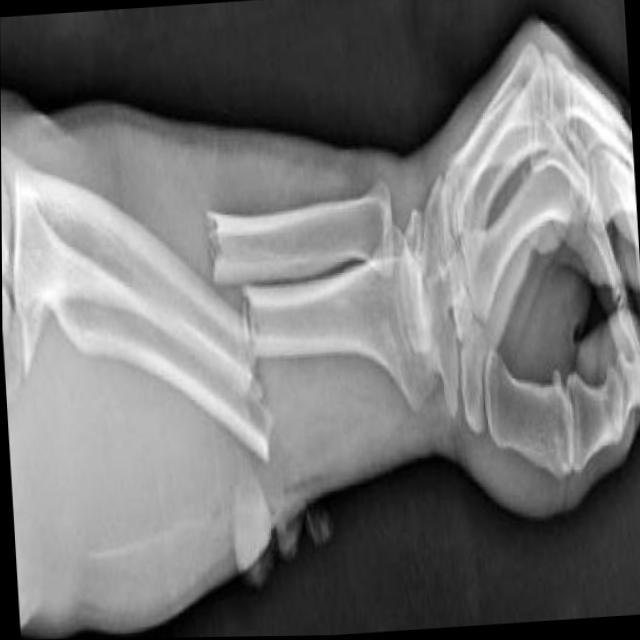fracture: (187, 190, 286, 467)
